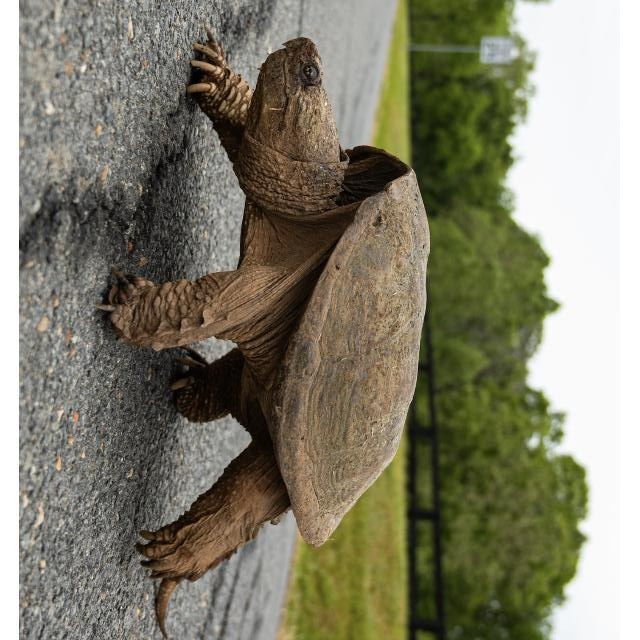turtle: (99, 37, 432, 639)
